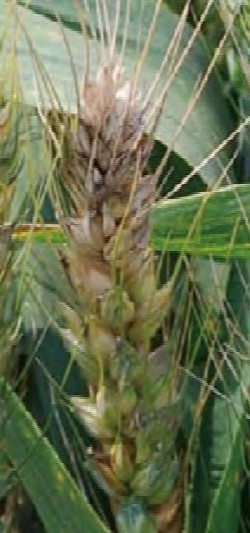Wheat scab: (54, 71, 183, 497)
